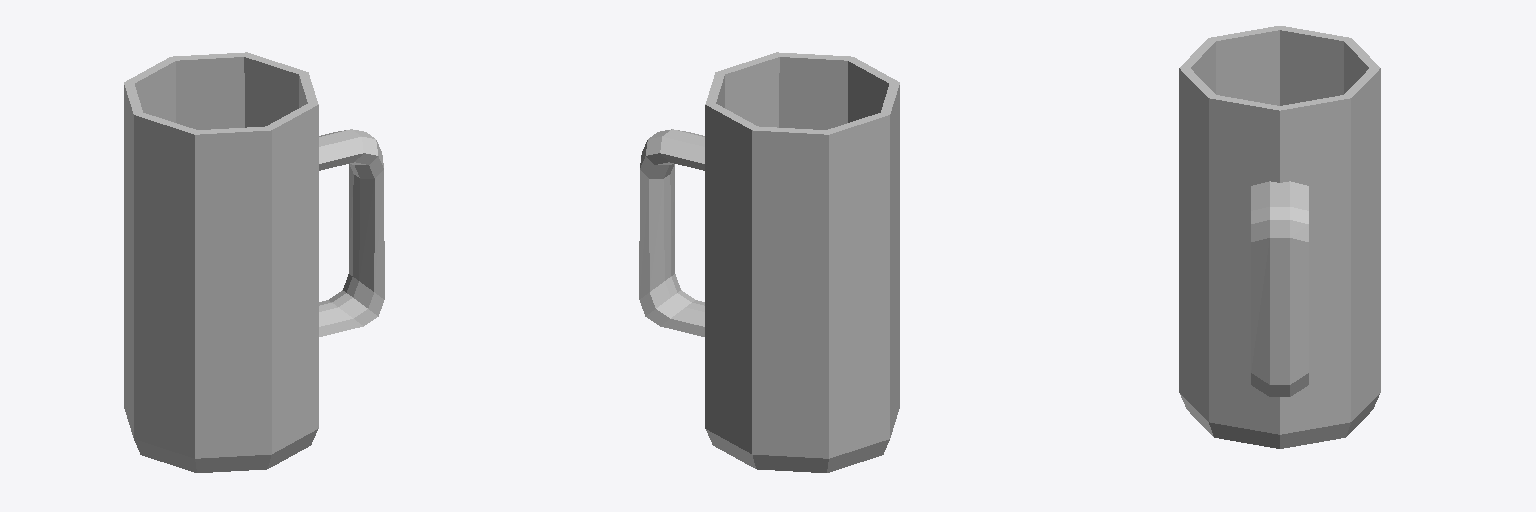
The model's file is sercups_beer_mug.obj.
3 renders of one model, left to right at view 1: azimuth 30°, elevation 25°; view 2: azimuth 150°, elevation 25°; view 3: azimuth 270°, elevation 25°, orthographic.
Visible parts, largest first — view 1: sercups_beer_mug_Cylinder.101; view 2: sercups_beer_mug_Cylinder.101; view 3: sercups_beer_mug_Cylinder.101.
Boxes of the visible parts, x1=… form: sercups_beer_mug_Cylinder.101: x1=124, y1=52, x2=384, y2=472; sercups_beer_mug_Cylinder.101: x1=639, y1=52, x2=899, y2=472; sercups_beer_mug_Cylinder.101: x1=1179, y1=26, x2=1380, y2=448.
Bounding box in the file's own units: 2.05 × 2.75 × 1.47.